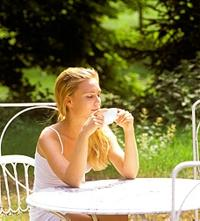person: (31, 68, 139, 221)
